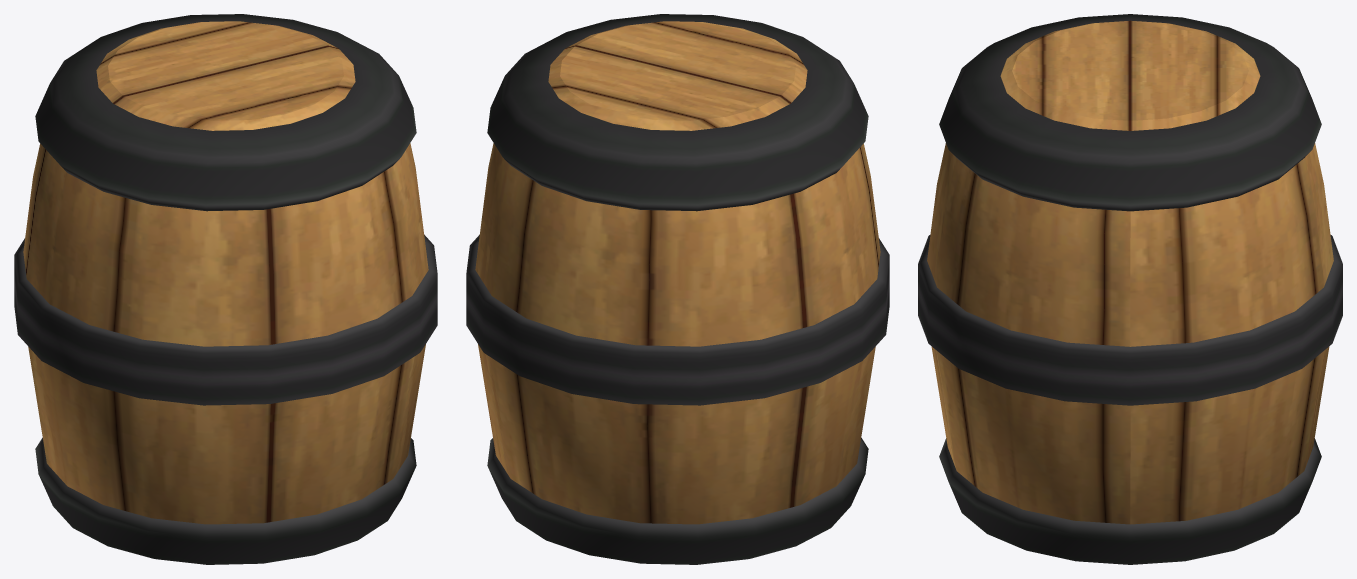
The model's file is Barrel.FBX.
3 renders of one model, left to right at view 1: azimuth 30°, elevation 25°; view 2: azimuth 150°, elevation 25°; view 3: azimuth 270°, elevation 25°, orthographic.
Parts seen in each view (by area): view 1: RaftConveyer__taru00; view 2: RaftConveyer__taru00; view 3: RaftConveyer__taru00.
Part boxes in pixels (x1=…): RaftConveyer__taru00: x1=14, y1=14, x2=437, y2=564; RaftConveyer__taru00: x1=466, y1=14, x2=889, y2=564; RaftConveyer__taru00: x1=918, y1=14, x2=1342, y2=564.
Size of the model in its own units: 233 by 262 by 232.
